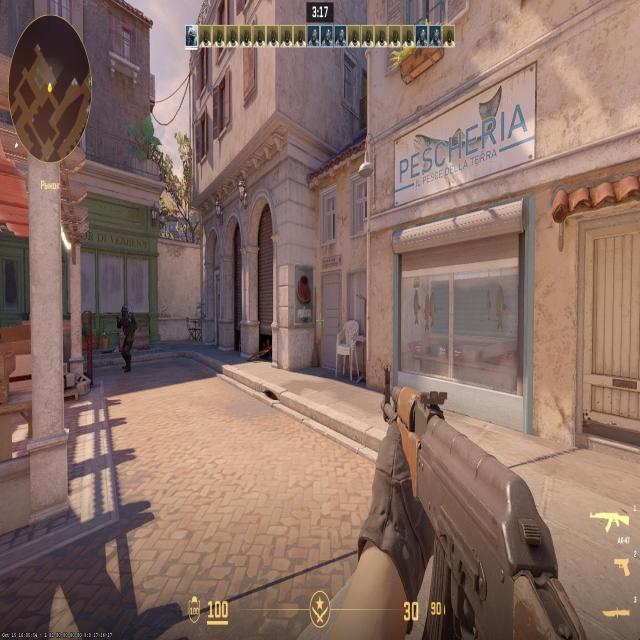CT: (120, 307, 135, 374)
CT_heat: (122, 310, 127, 319)
